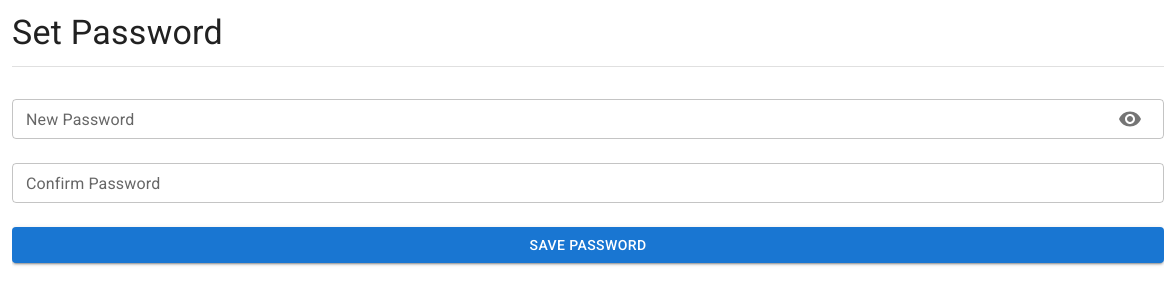
Set Password Page › requires matching passwords
Type "ValidPass123!" into the password field labelled "New Password" at (557, 119), box [12,99,1102,139]
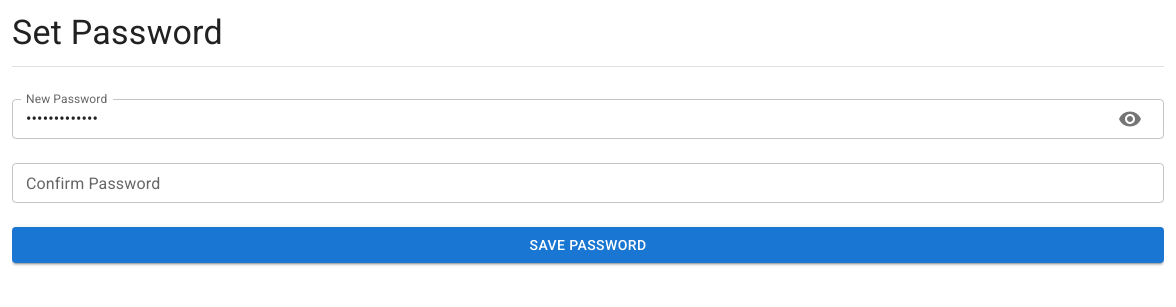
Type "DifferentPass123!" into the password field labelled "Confirm Password" at (588, 183), box [12,163,1164,203]
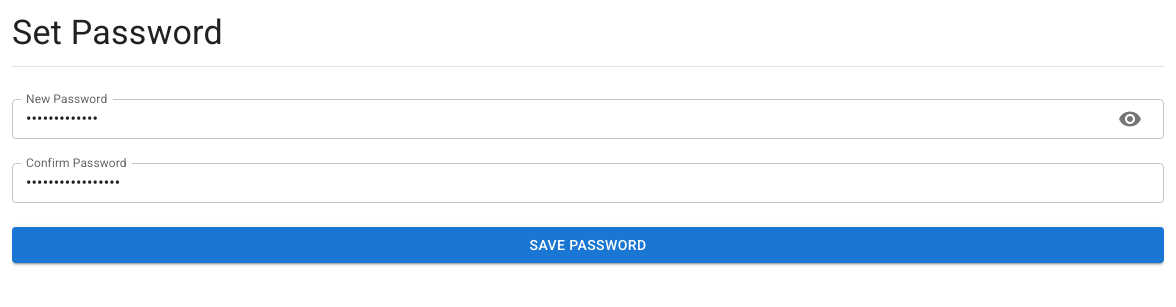
Click the button "Save Password" at (588, 245), box [12,227,1164,263]
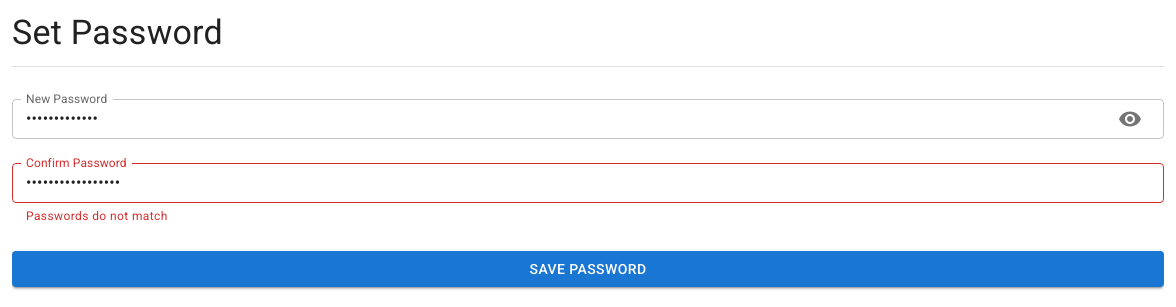
Check: the text "Passwords do not match" is shown, box [26,209,168,223]
